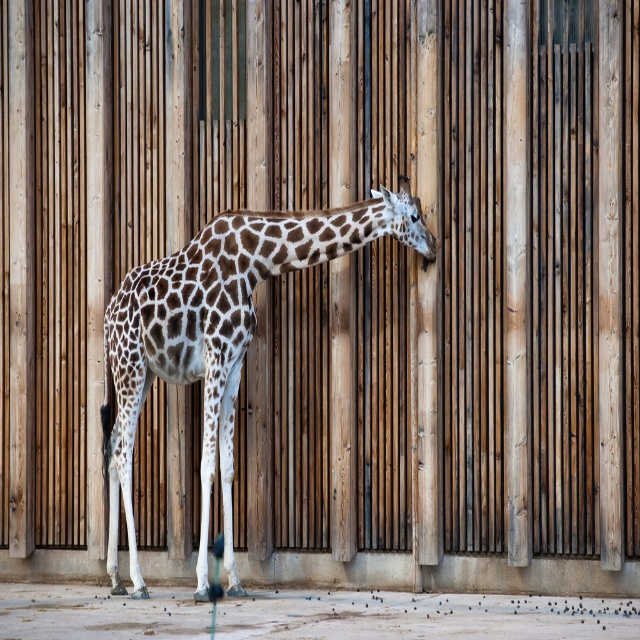Giraffe: (109, 170, 419, 585)
